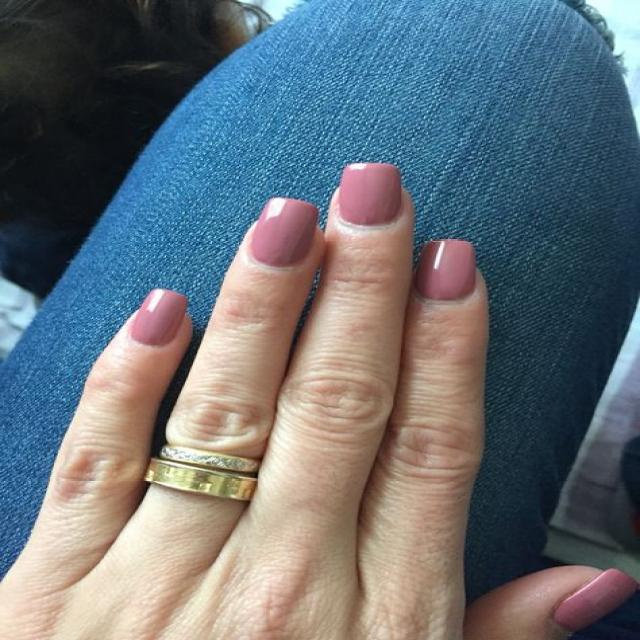Fingernail: (554, 567, 637, 633), (249, 198, 319, 268), (339, 164, 401, 226), (414, 241, 477, 301), (131, 289, 186, 346)
